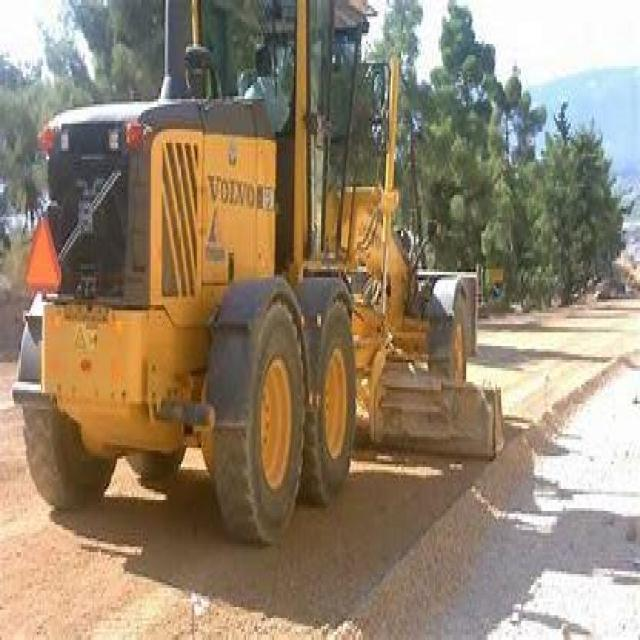Grader: (25, 6, 512, 550)
